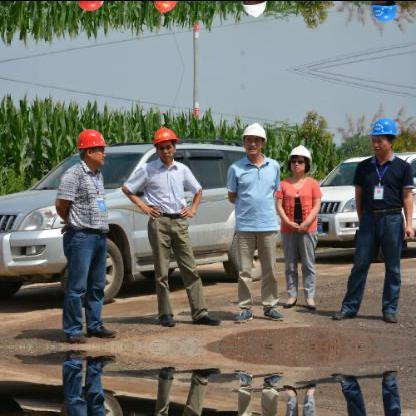Helmet: (74, 125, 108, 165), (367, 111, 397, 155), (238, 118, 268, 156), (284, 139, 312, 175), (150, 123, 178, 159), (366, 0, 398, 26), (238, 0, 269, 19), (74, 0, 108, 12), (150, 0, 178, 14)
